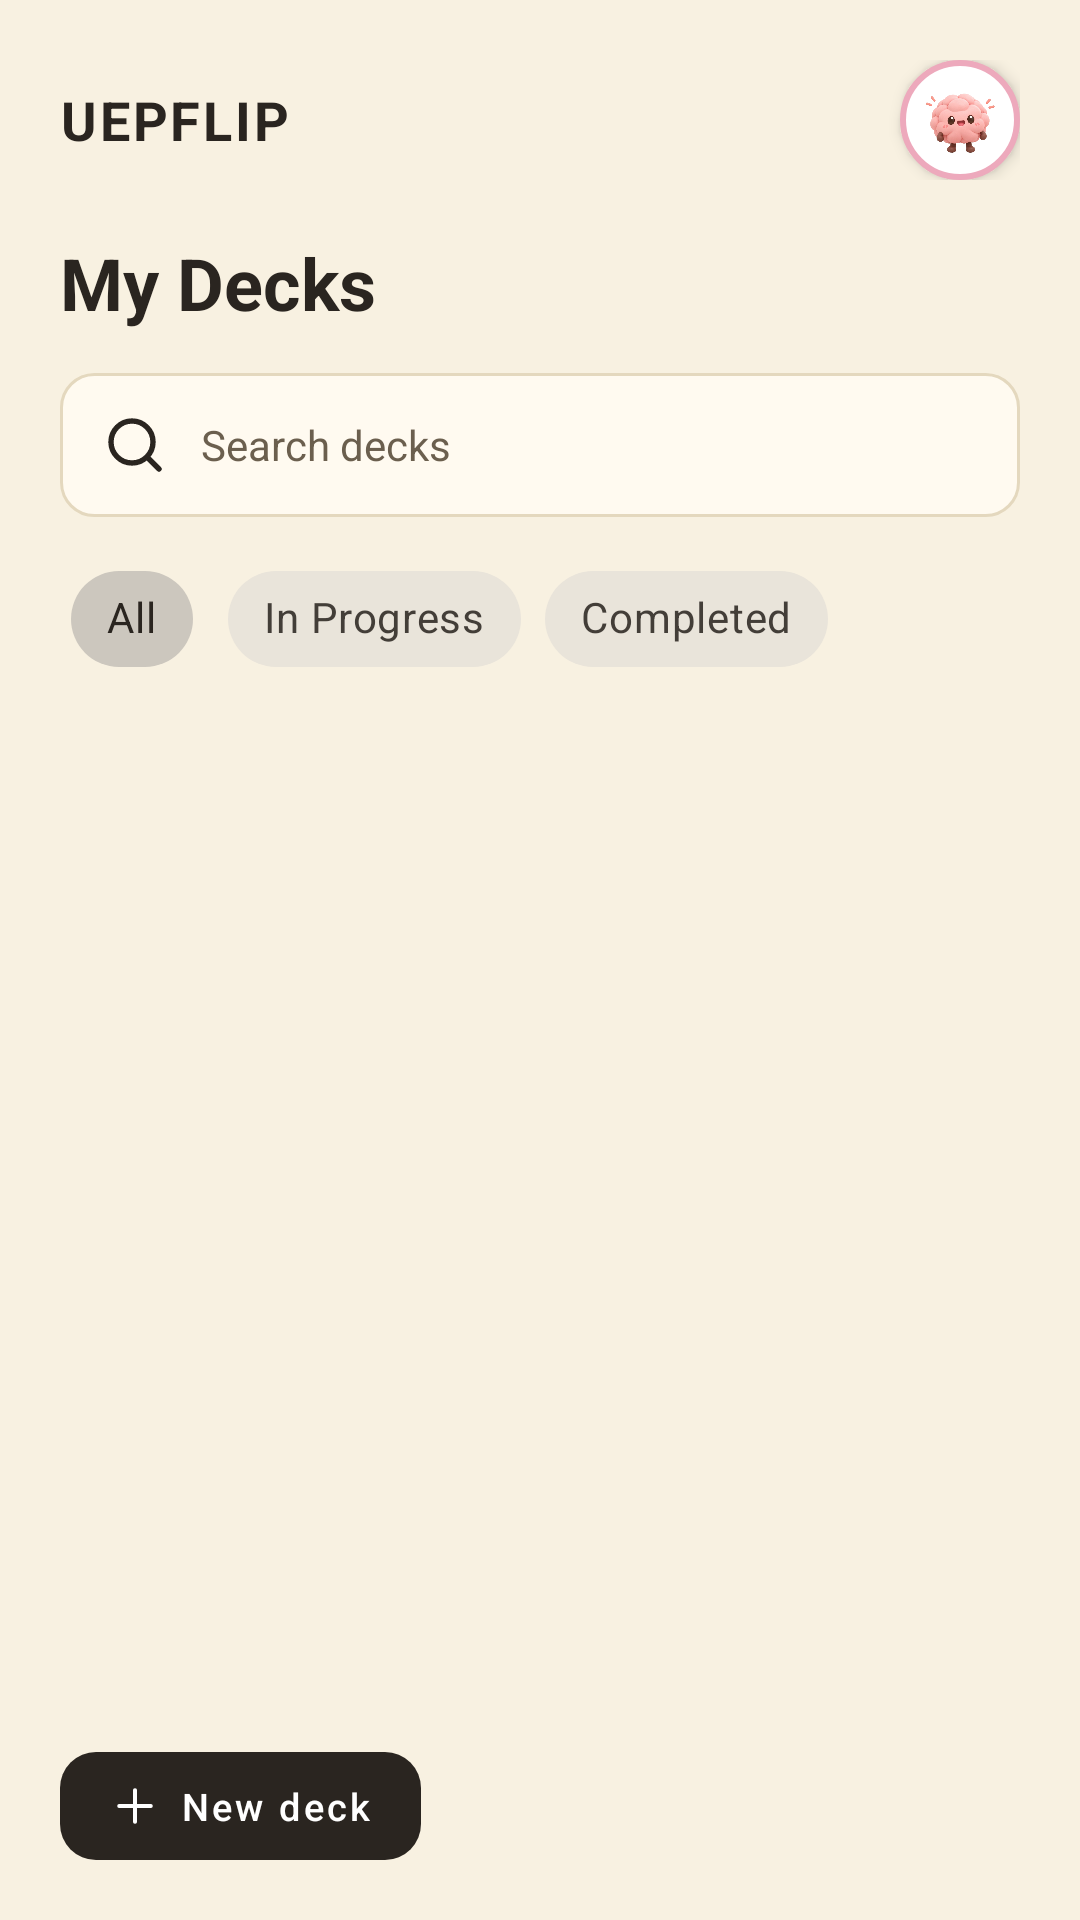

Point at icon controls on the screen. Image size 1080 × 1920, points as point (x, y).
Open profile: point (960, 120)
